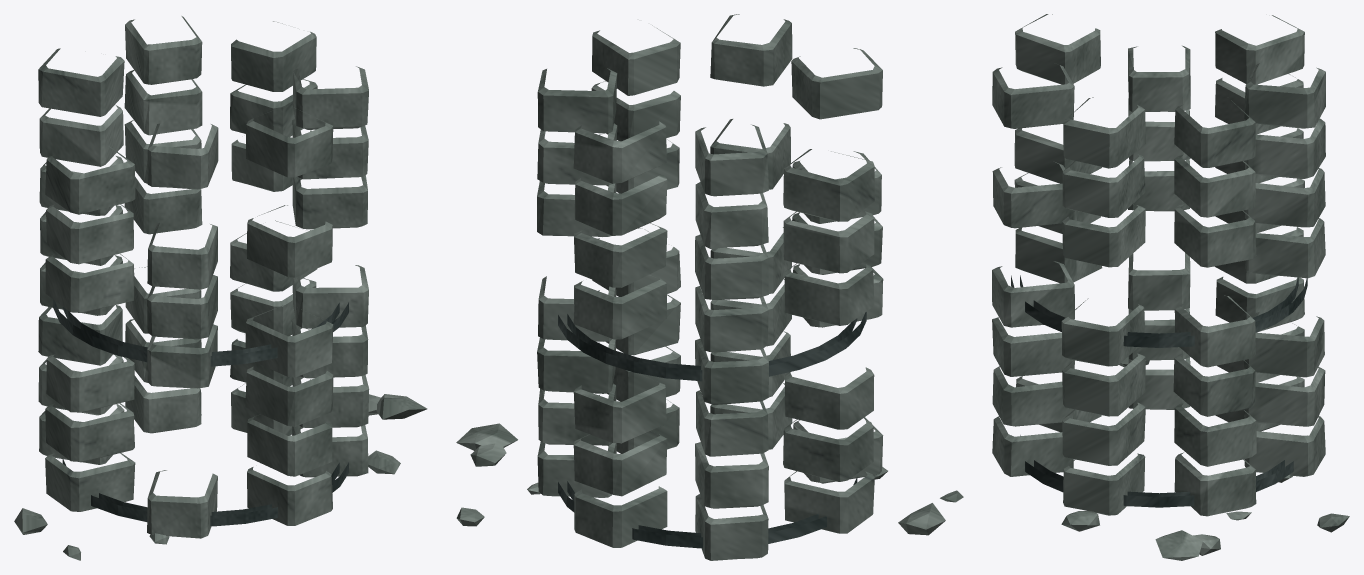
The model's file is 0411_ruined_tower_11.glb.
The picture shows the model from 3 angles, left to right: view 1: azimuth 30°, elevation 25°; view 2: azimuth 150°, elevation 25°; view 3: azimuth 270°, elevation 25°; orthographic projection. The views are drawn at different scales.
Visible parts, largest first — view 1: stone, stone_dark; view 2: stone, stone_dark; view 3: stone, stone_dark.
Boxes of the visible parts, <box> form: stone: <box>14,16,427,560</box>; stone_dark: <box>53,299,348,526</box>; stone: <box>456,14,963,560</box>; stone_dark: <box>558,312,866,548</box>; stone: <box>992,14,1349,560</box>; stone_dark: <box>1011,275,1307,507</box>.
Bounding box in the file's own units: 3.79 × 3.35 × 2.74.
Materials: 2 (2 with a texture image).
